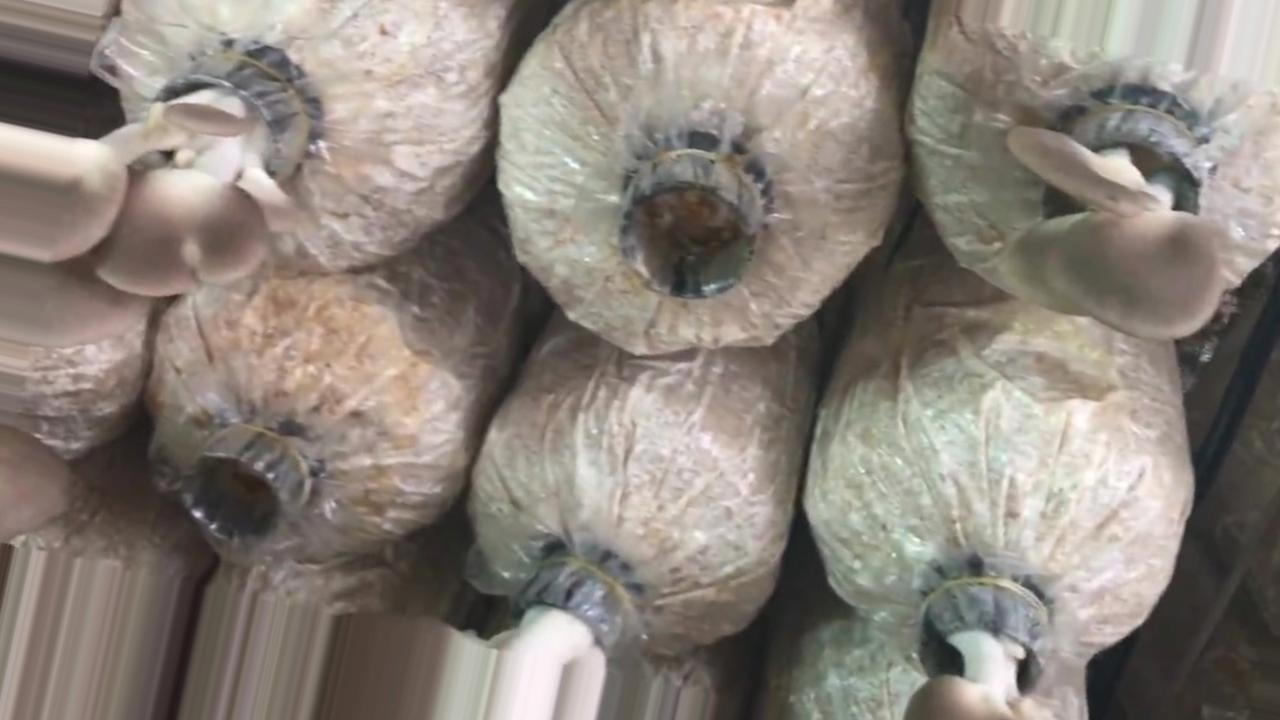nam: (1, 46, 328, 301), (995, 82, 1234, 353), (903, 563, 1061, 720)
